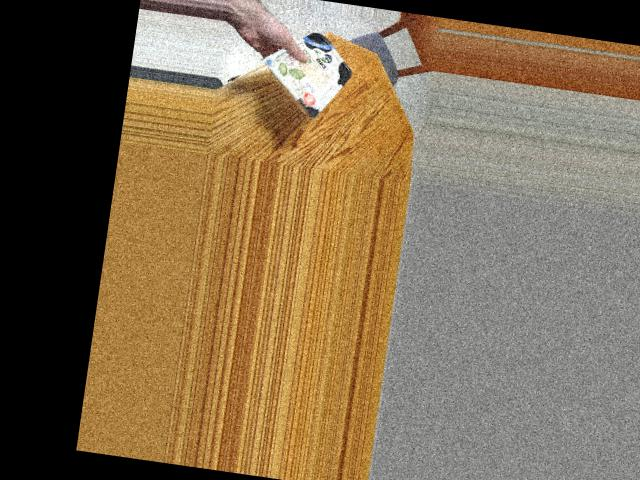cheese: (265, 38, 353, 109)
